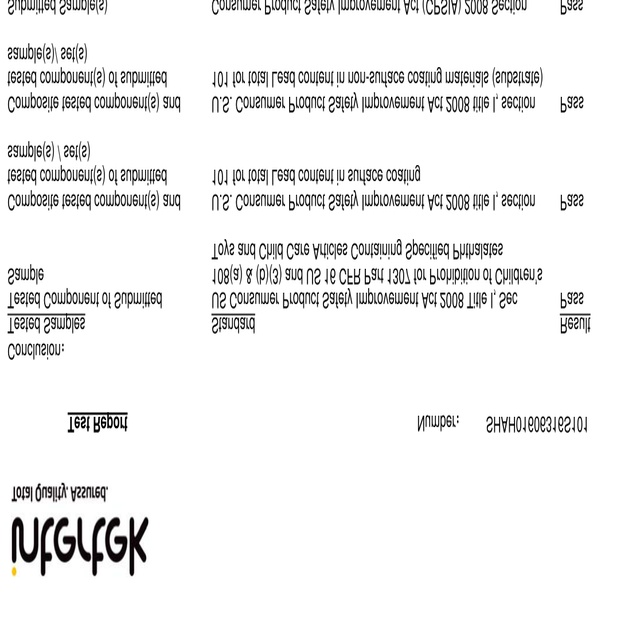intertek: (7, 512, 152, 583)
